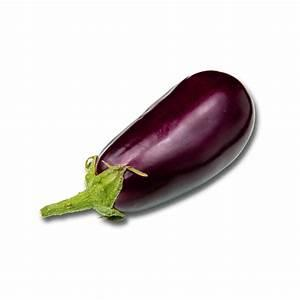eggplant: (40, 71, 254, 218)
